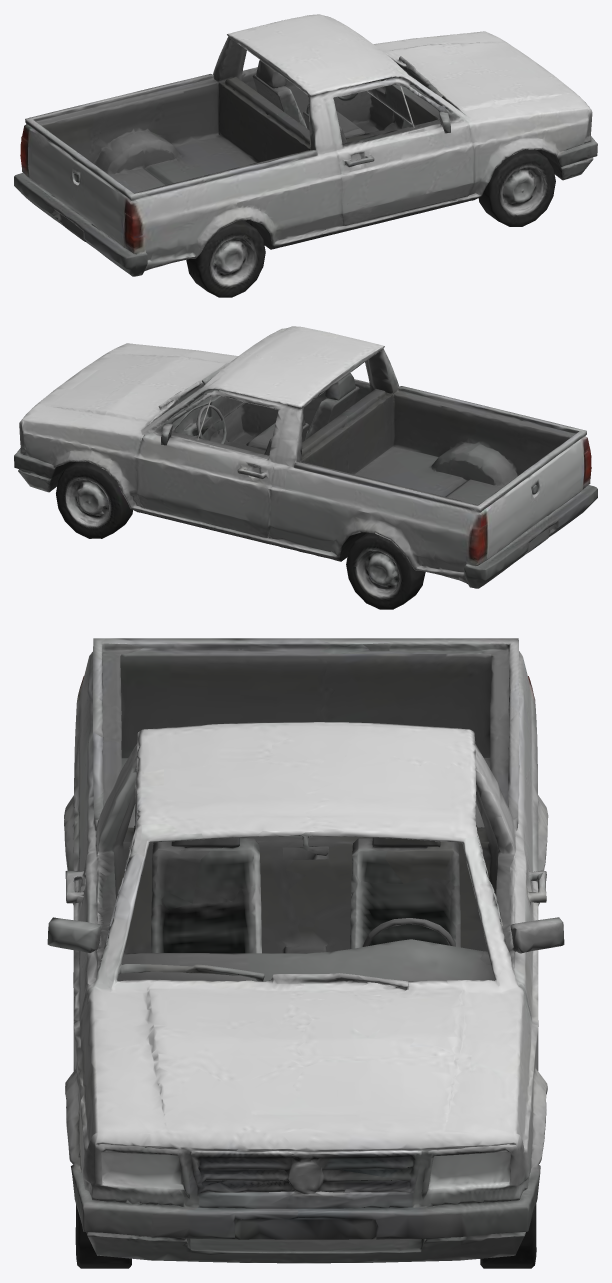
The model's file is saveiro.glb.
The picture shows the model from 3 angles, top to bottom: view 1: azimuth 30°, elevation 25°; view 2: azimuth 150°, elevation 25°; view 3: azimuth 270°, elevation 25°; orthographic projection. The views are drawn at different scales.
Parts seen in each view (by area): view 1: tripo_node_48c89540-d043-4165-a441-1dc1bbb36130; view 2: tripo_node_48c89540-d043-4165-a441-1dc1bbb36130; view 3: tripo_node_48c89540-d043-4165-a441-1dc1bbb36130.
Boxes of the visible parts, <box> form: tripo_node_48c89540-d043-4165-a441-1dc1bbb36130: <box>14,14,597,297</box>; tripo_node_48c89540-d043-4165-a441-1dc1bbb36130: <box>14,326,597,609</box>; tripo_node_48c89540-d043-4165-a441-1dc1bbb36130: <box>47,638,564,1268</box>.
Size of the model in its own units: 1 by 0.3459 by 0.4639.
Materials: 1 (1 with a texture image).
